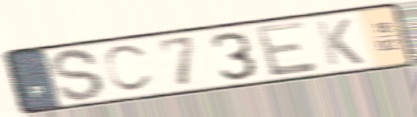3: (210, 30, 261, 83)
7: (156, 33, 200, 90)
C: (102, 42, 156, 94)
E: (252, 18, 322, 80)
K: (312, 16, 367, 68)
S: (48, 47, 109, 103)
